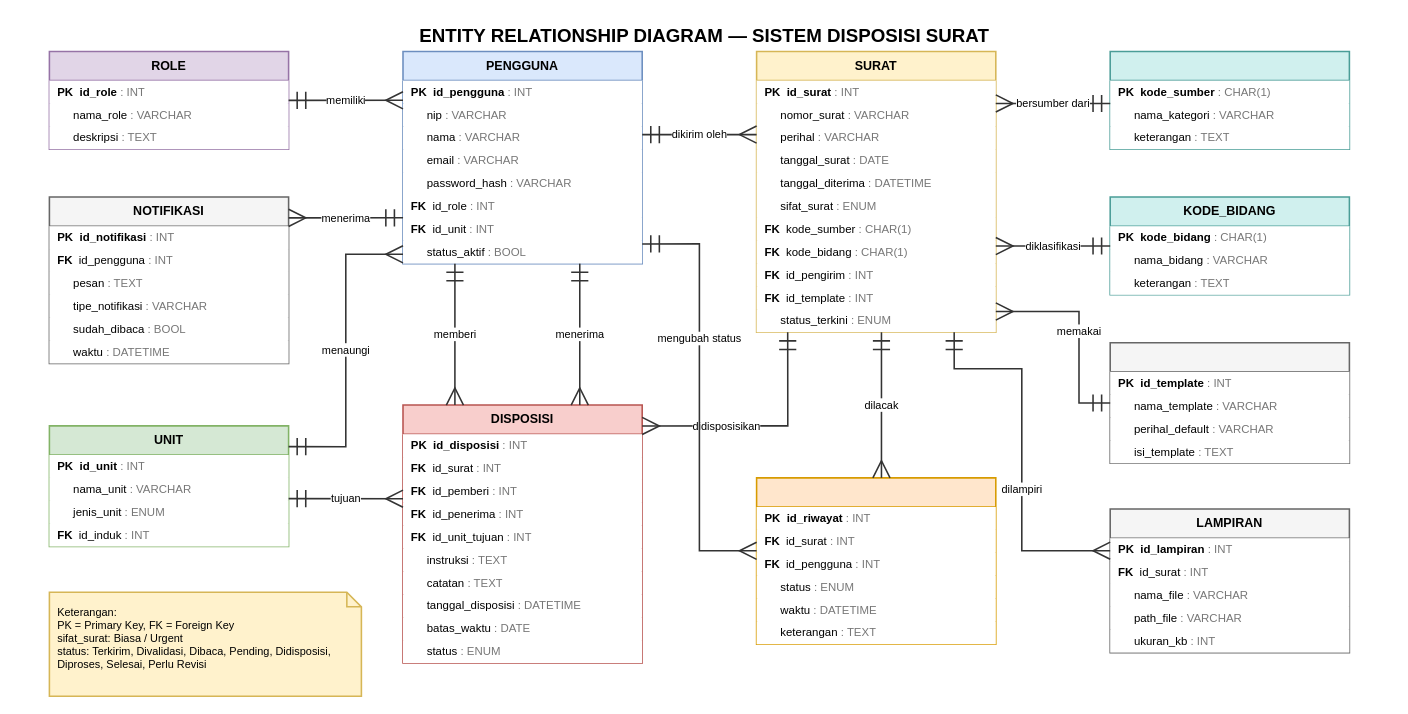
The diagram is 1408 pixels wide and 714 high, and some of its shapes have lost their labels. The shapes that lost their labels are listed below. From the top down, each one's box as (x1, y1, x2, y2) in pixels, then its label:
(1109, 50, 1350, 150): KATEGORI_SUMBER
(1109, 341, 1350, 464): TEMPLATE_SURAT
(755, 477, 996, 645): RIWAYAT_STATUS
